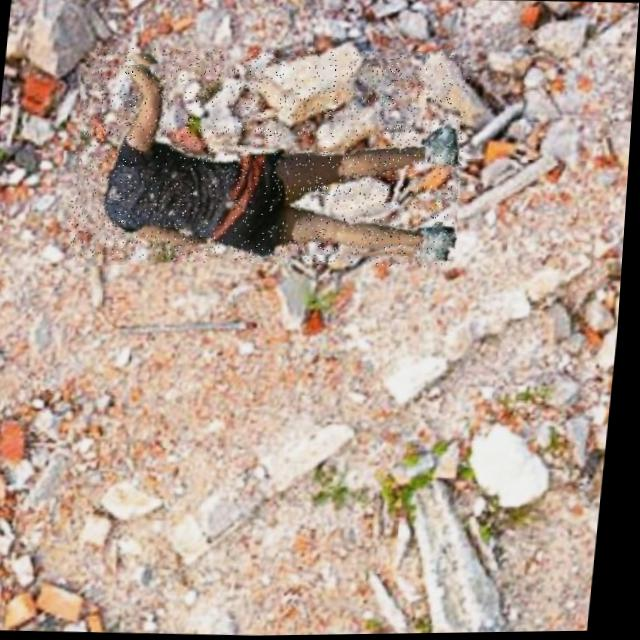Person in Rubble: (68, 41, 474, 272)
